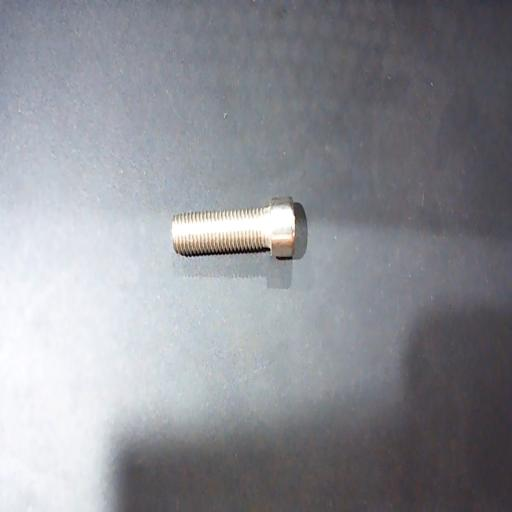screw: (172, 195, 295, 259)
